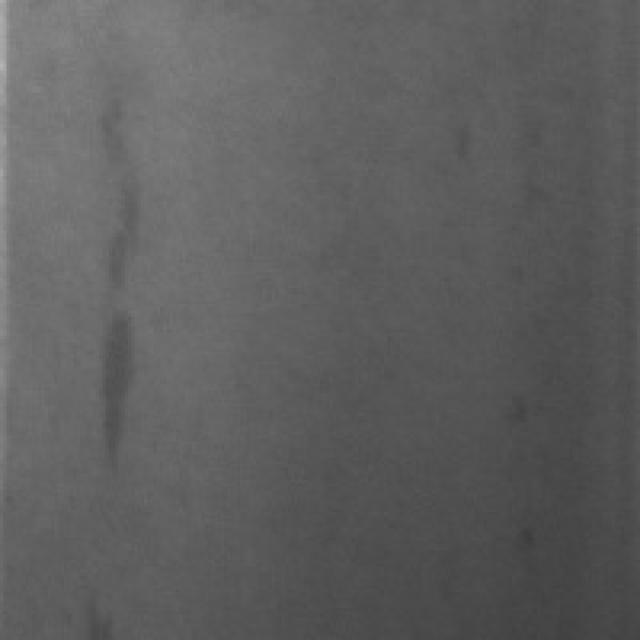inclusion: (80, 83, 150, 304), (83, 294, 144, 480)
